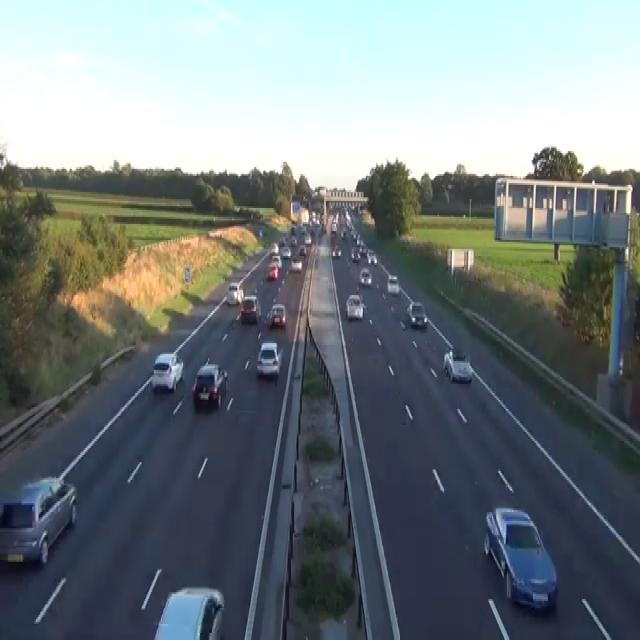Car: (483, 506, 558, 612), (0, 475, 77, 565), (0, 562, 72, 638), (153, 585, 224, 638), (190, 357, 228, 407), (150, 352, 183, 393), (442, 348, 472, 382), (256, 341, 281, 377), (240, 295, 261, 324), (406, 301, 427, 327), (345, 293, 364, 320), (267, 302, 286, 327), (225, 282, 243, 306), (386, 274, 399, 295), (359, 266, 372, 284), (266, 263, 278, 281), (289, 256, 302, 272), (366, 249, 377, 265), (358, 293, 367, 311), (350, 246, 360, 262), (271, 254, 282, 268), (331, 244, 341, 258), (281, 245, 291, 258), (265, 308, 272, 326), (269, 242, 278, 254), (358, 242, 367, 254), (331, 220, 337, 233), (299, 245, 306, 256), (304, 233, 311, 243), (290, 235, 297, 245), (279, 237, 286, 246), (340, 228, 346, 238), (358, 205, 364, 215), (300, 224, 306, 233), (291, 226, 296, 233), (258, 228, 262, 236)
Truck: (446, 247, 474, 272), (290, 199, 300, 221)
